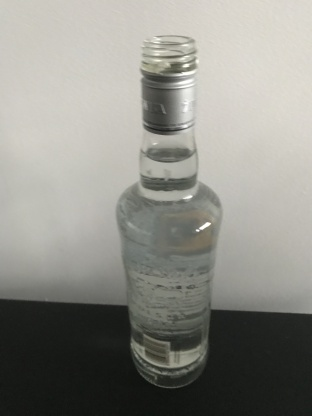nakretka: (137, 33, 199, 136)
